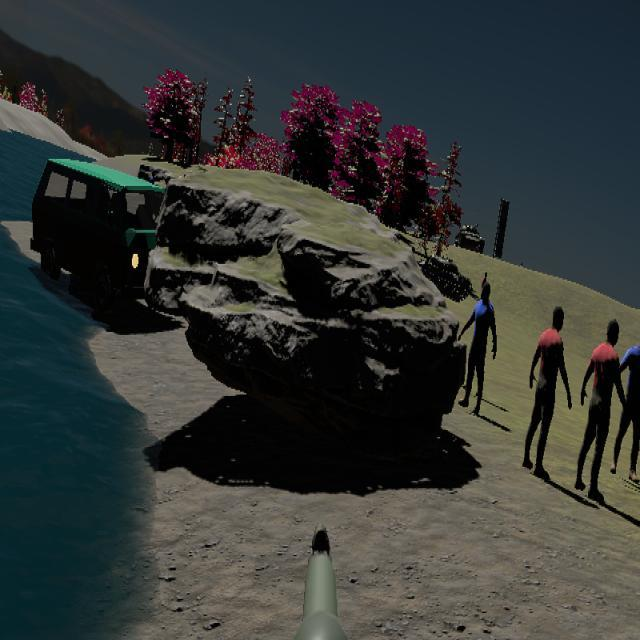Human: (578, 317, 628, 503), (524, 304, 573, 480), (455, 281, 497, 416), (615, 322, 640, 483)
Tank: (418, 253, 473, 302), (456, 222, 487, 253)
car: (29, 158, 172, 312)
